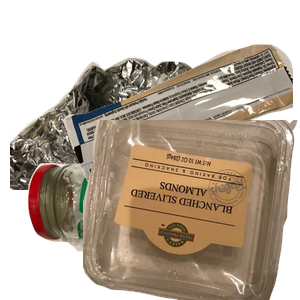glass: (25, 155, 227, 300)
metal: (10, 47, 216, 227)
plastic: (83, 120, 300, 300)
trash: (60, 42, 300, 219)
